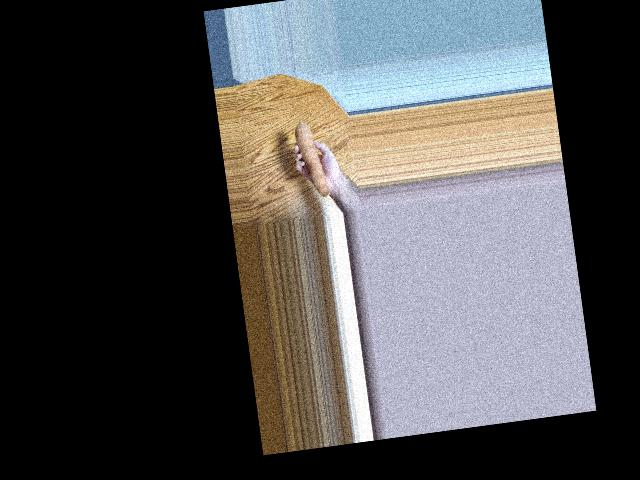sweet_potato: (289, 115, 332, 195)
